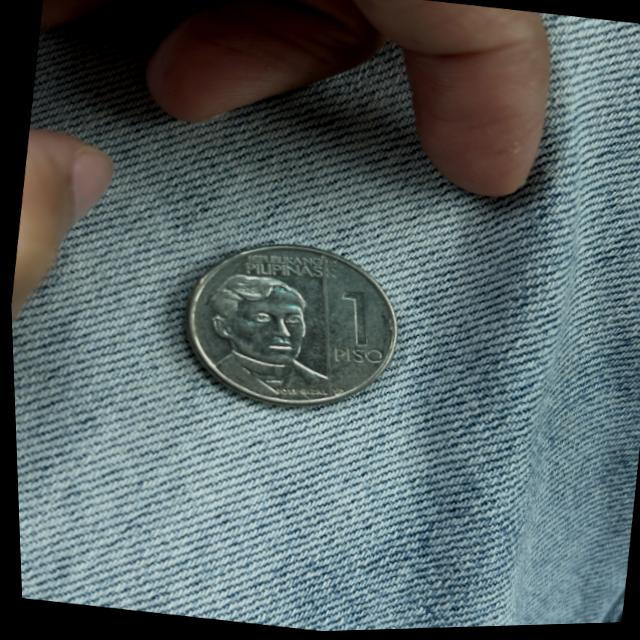1_New_Front: (325, 283, 399, 371)
